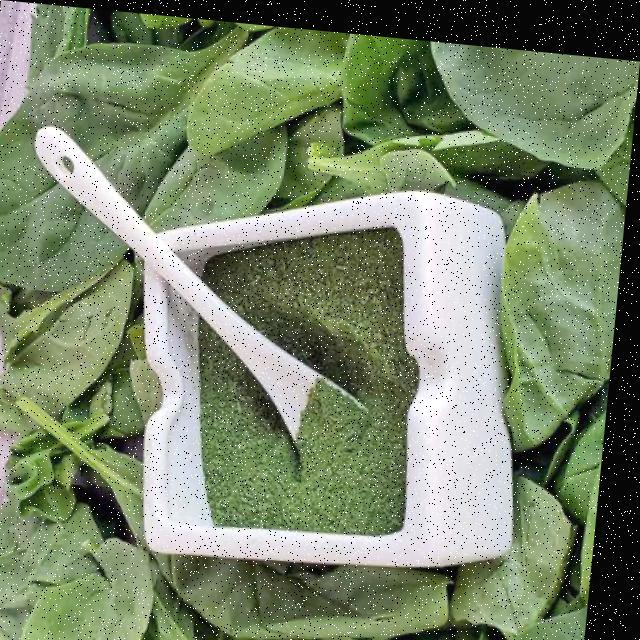Spinach: (0, 0, 640, 348), (0, 512, 601, 640), (467, 161, 631, 563)
